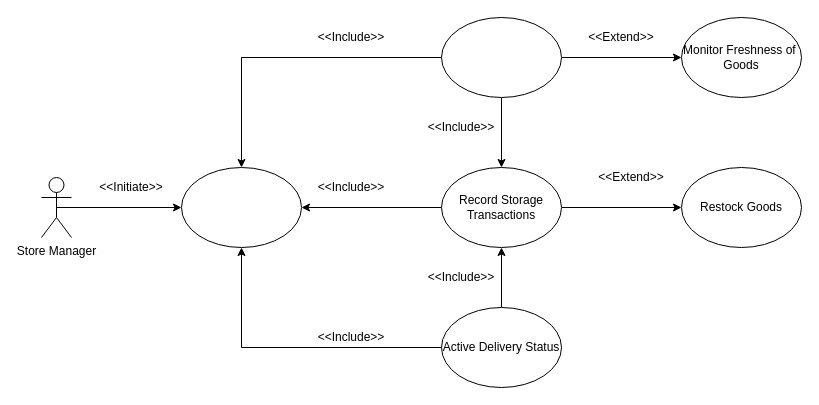
Some shapes in this 819 by 405 pixel diagram are drawn without their labels. Here are the shapes that lost their labels. From the top down, the centre of each, then its label:
At point 501,57: "Check/Update Goods".
At point 241,207: "Login".
